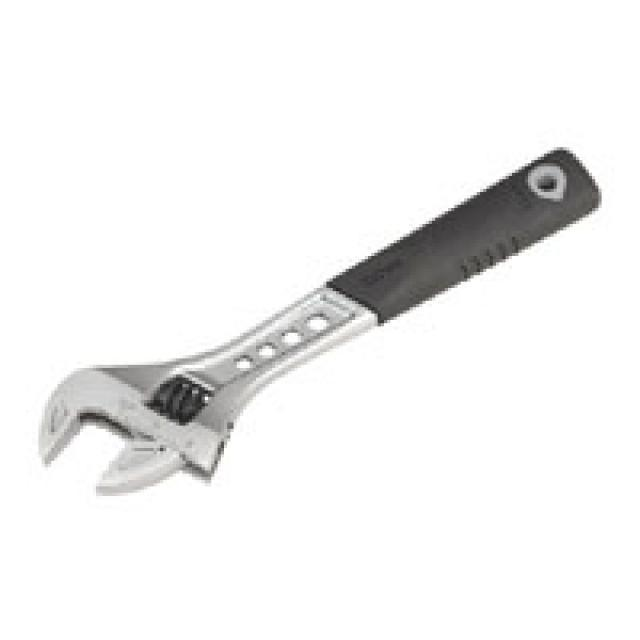wrench: (31, 143, 606, 501)
